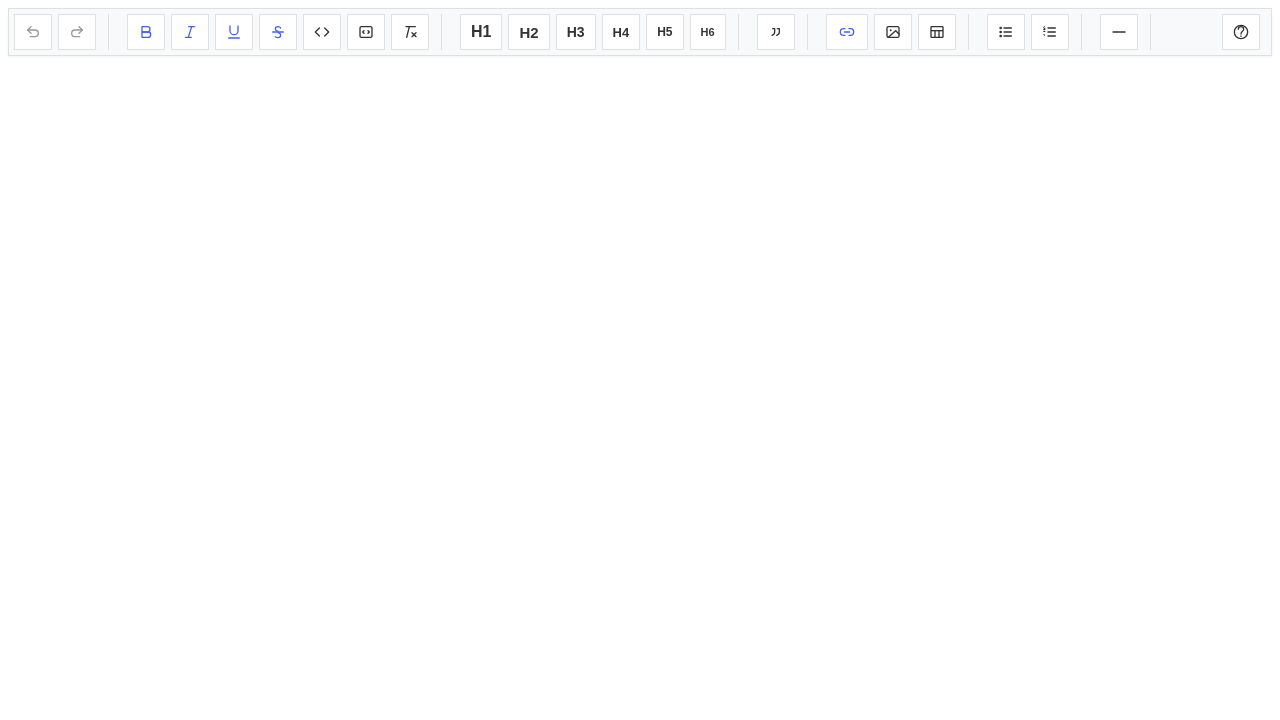
Test: ToolbarPlugin Component › image insertion with required alt text › allows insertion without alt text only when explicitly marked decorative
This screenshot has width=1280, height=720.
Click the button named "Insert Image".
click(893, 32)  # box x1=874 y1=14 x2=912 y2=50
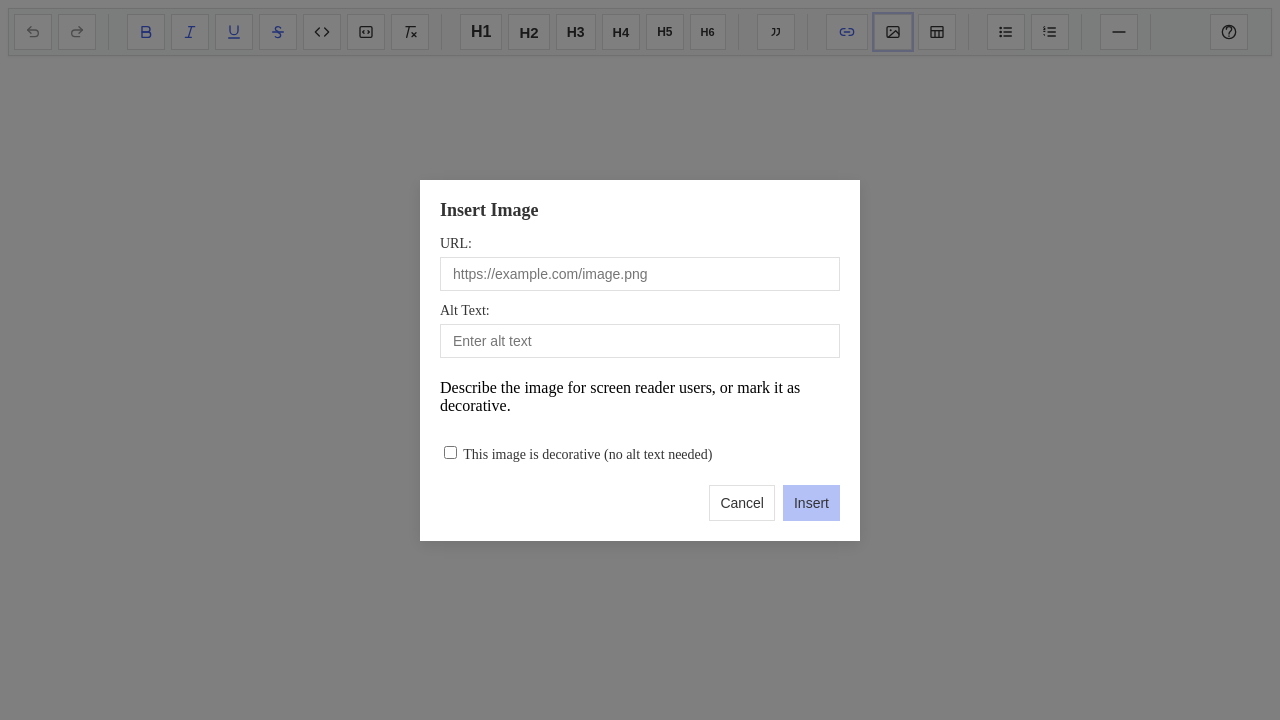
Type "https://example.com/border.png" into the field labelled "URL:".
click(640, 274); type("https://example.com/border.png")  # box x1=440 y1=256 x2=840 y2=290
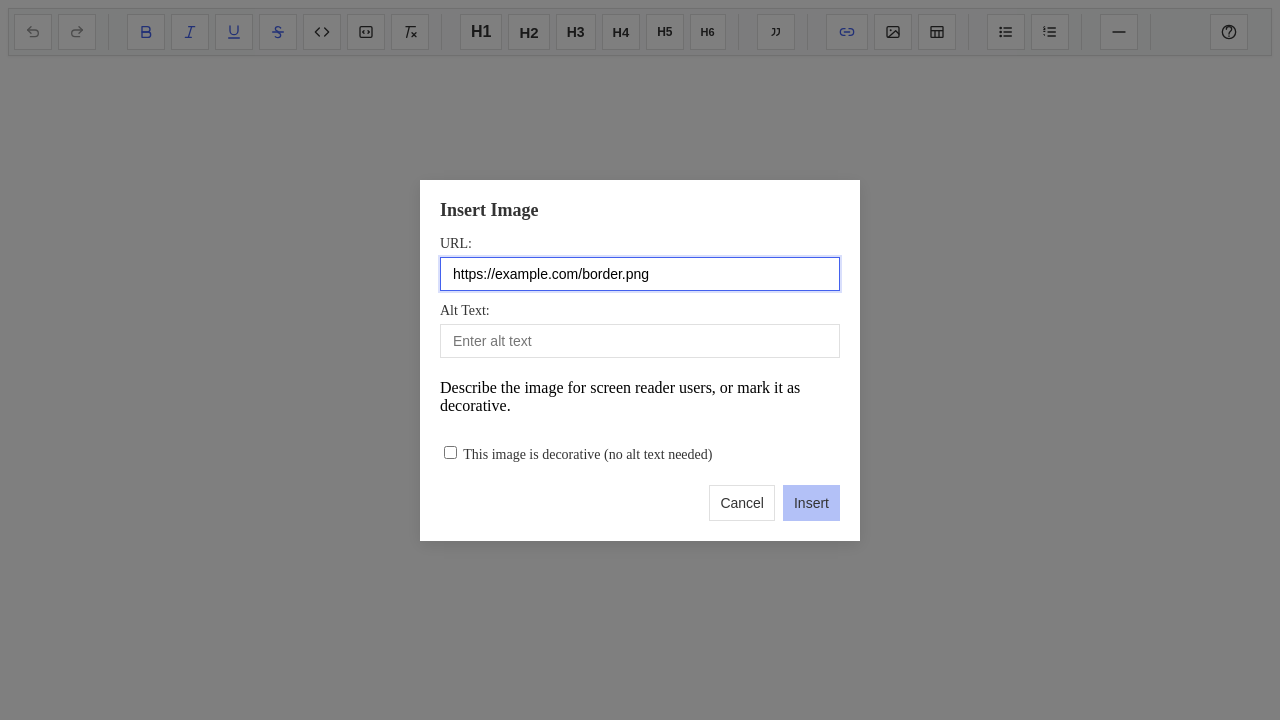
Result: the button "Insert" is disabled at x1=783 y1=484 x2=840 y2=520
Click the checkbox labelled "This image is decorative (no alt text needed)".
click(450, 452)  # box x1=444 y1=446 x2=457 y2=458
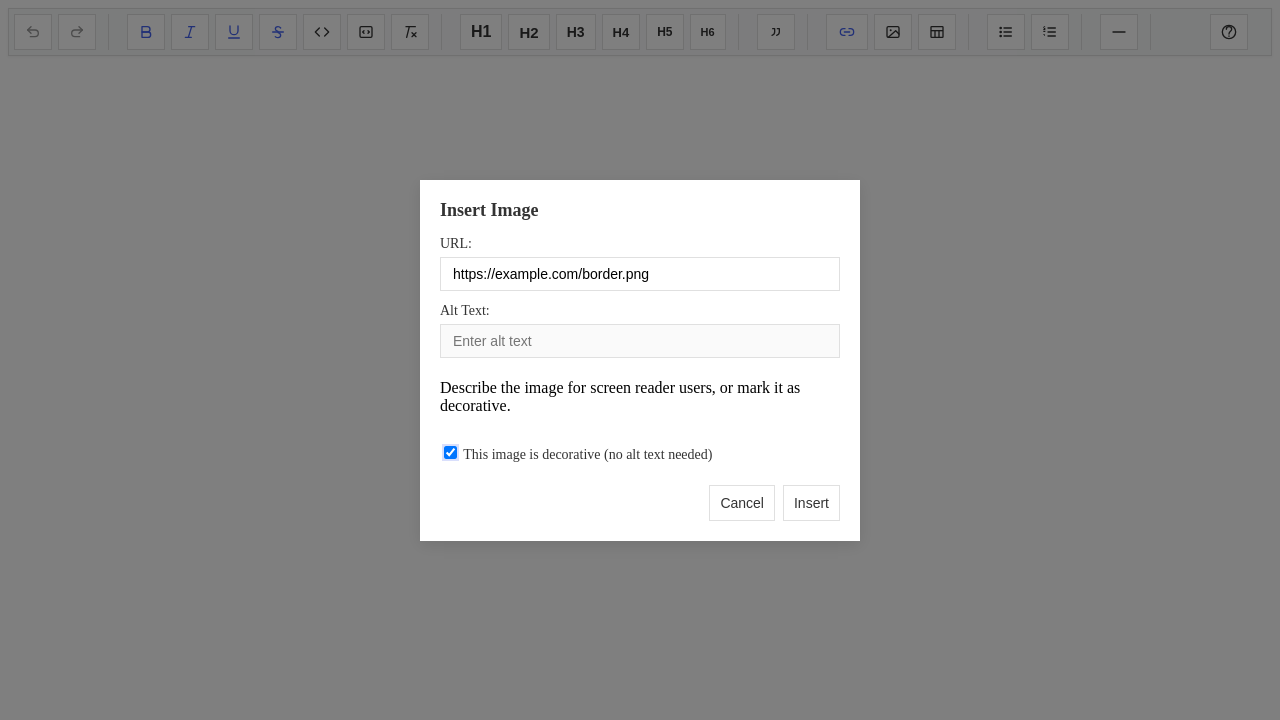
Expected: the field labelled "Alt Text:" is disabled, x1=440 y1=324 x2=840 y2=358
Result: the button "Insert" is enabled at x1=783 y1=484 x2=840 y2=520
